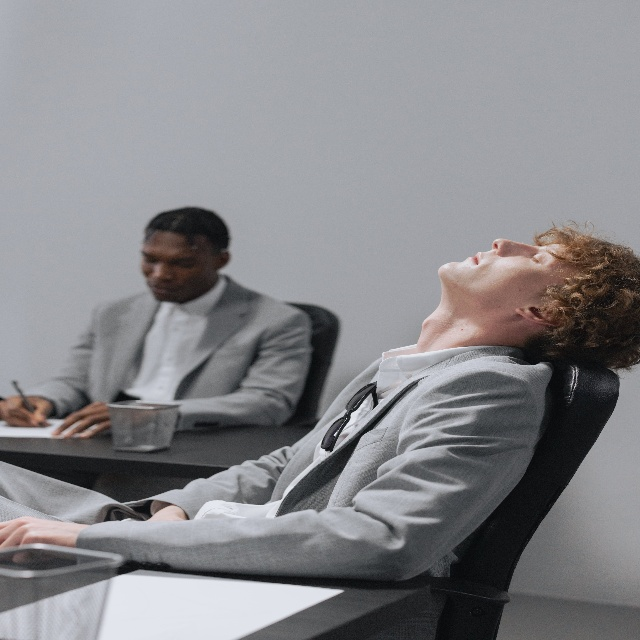Gafas: (320, 379, 377, 453)
Sin_guantes: (0, 517, 79, 562), (52, 402, 111, 440), (2, 393, 56, 433)
